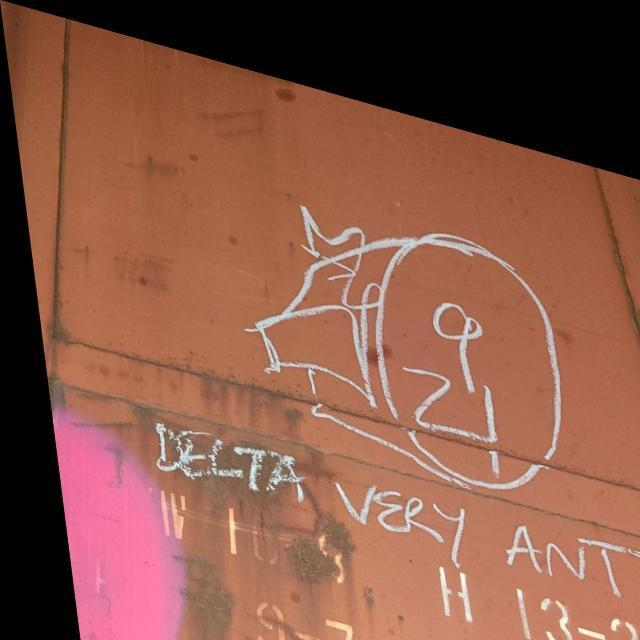-: (171, 120, 640, 510), (115, 390, 640, 588), (130, 473, 640, 640)
